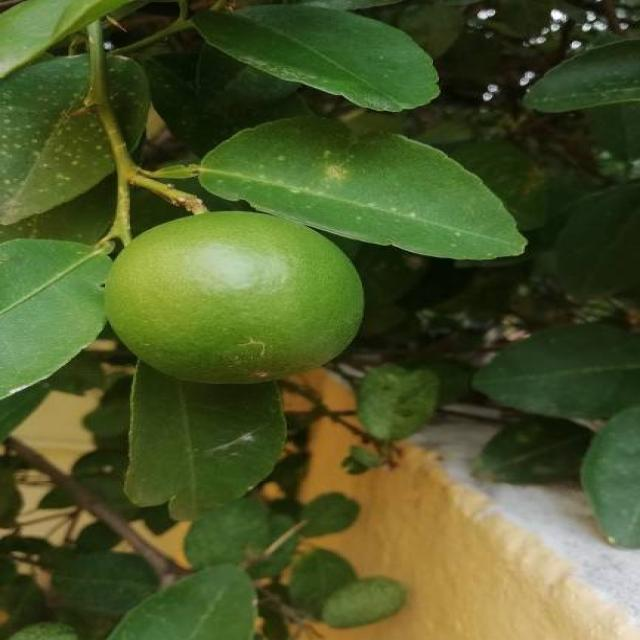Unripe: (104, 207, 367, 387)
